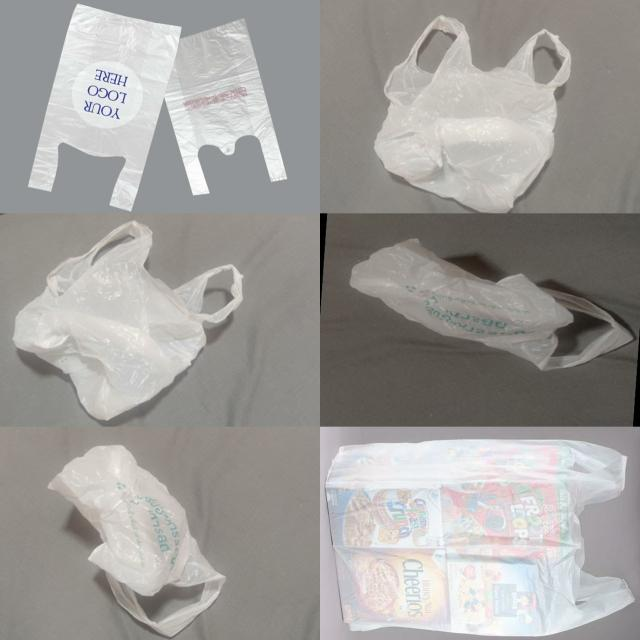Single-layer Plastic: (325, 440, 630, 636), (14, 221, 243, 419), (374, 16, 570, 212), (350, 239, 633, 370), (49, 445, 225, 637), (29, 4, 181, 211), (165, 19, 286, 195)
